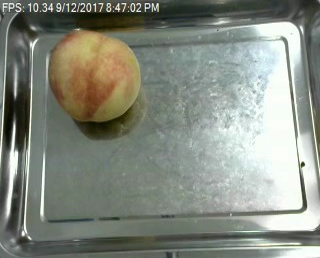Peach: (47, 29, 141, 123)
